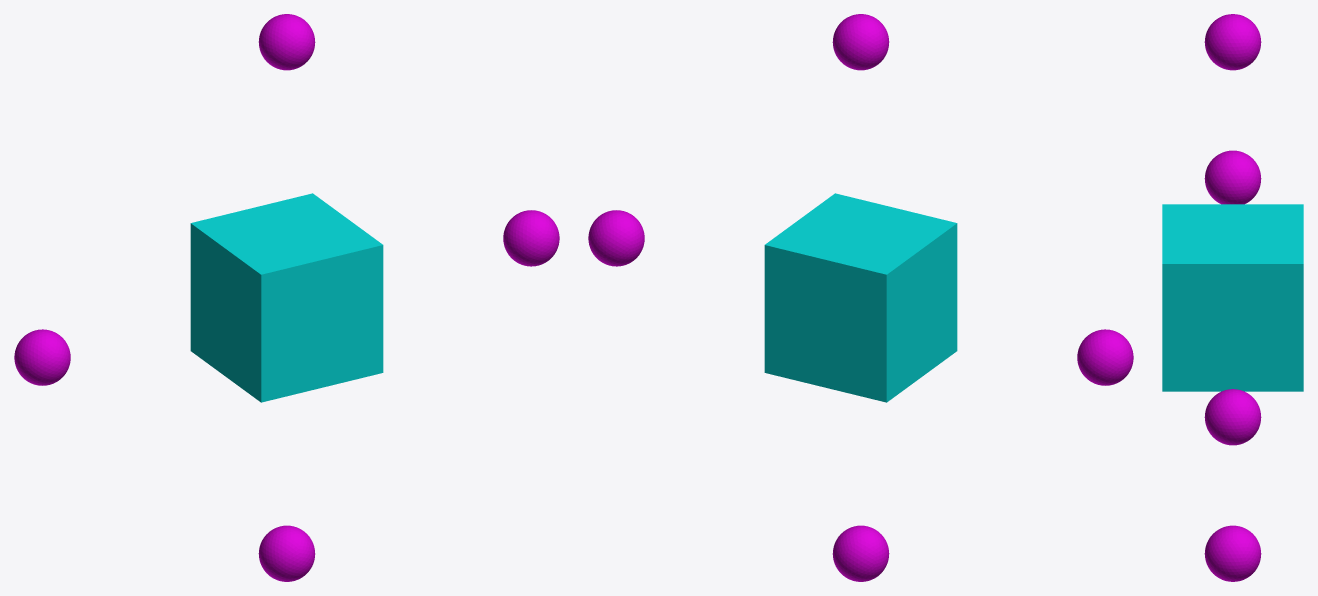
Rendered from blockchain.glb.
The picture shows the model from 3 angles, left to right: view 1: azimuth 30°, elevation 25°; view 2: azimuth 150°, elevation 25°; view 3: azimuth 270°, elevation 25°; orthographic projection.
Visible parts, largest first — view 1: world; view 2: world; view 3: world.
Part boxes in pixels (left/top/right/bottom): world: left=14, top=14, right=559, bottom=581; world: left=588, top=14, right=1133, bottom=581; world: left=1162, top=14, right=1303, bottom=581.
Size of the model in its own units: 4.4 by 4.4 by 1.
